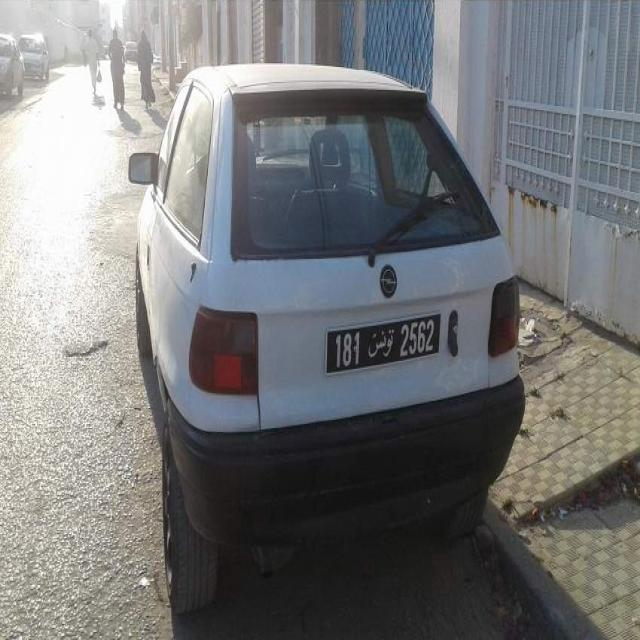licence plate: (325, 312, 442, 375)
